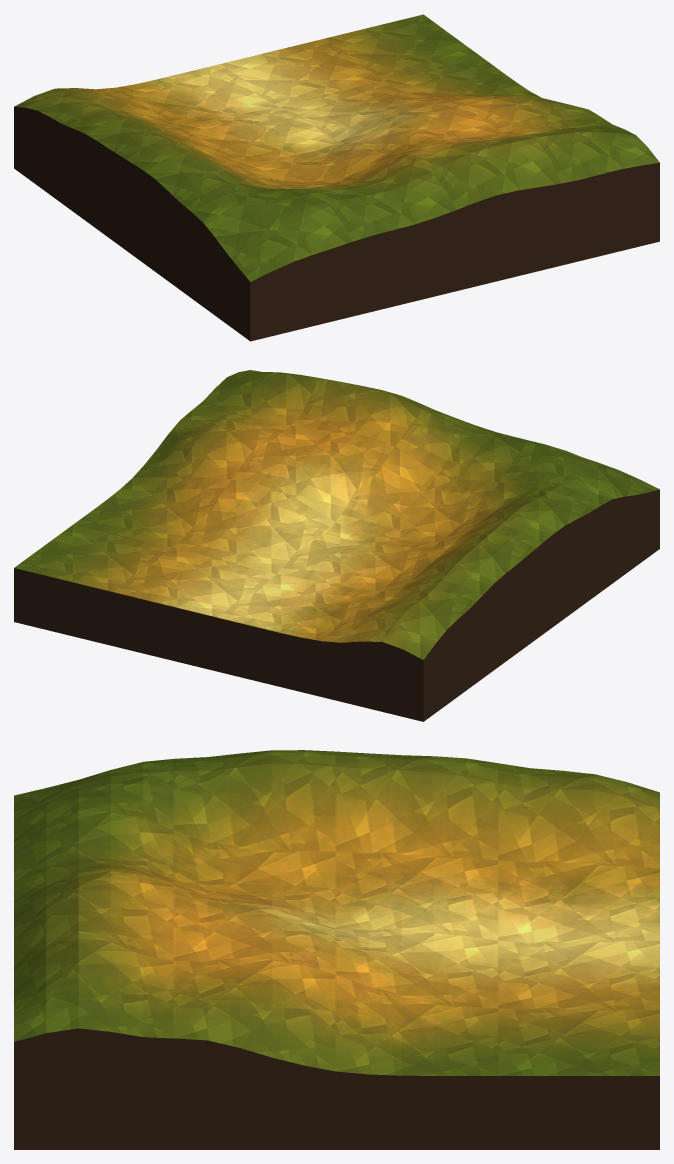
The model's file is Ground.FBX.
The picture shows the model from 3 angles, top to bottom: view 1: azimuth 30°, elevation 25°; view 2: azimuth 150°, elevation 25°; view 3: azimuth 270°, elevation 25°; orthographic projection. The views are drawn at different scales.
Parts seen in each view (by area): view 1: Ground; view 2: Ground; view 3: Ground.
Boxes of the visible parts, x1,y1,x2,y2 form: Ground: (14, 14, 659, 341); Ground: (14, 370, 659, 721); Ground: (14, 750, 659, 1149).
Bounding box in the file's own units: 4326 × 1136 × 4326.
